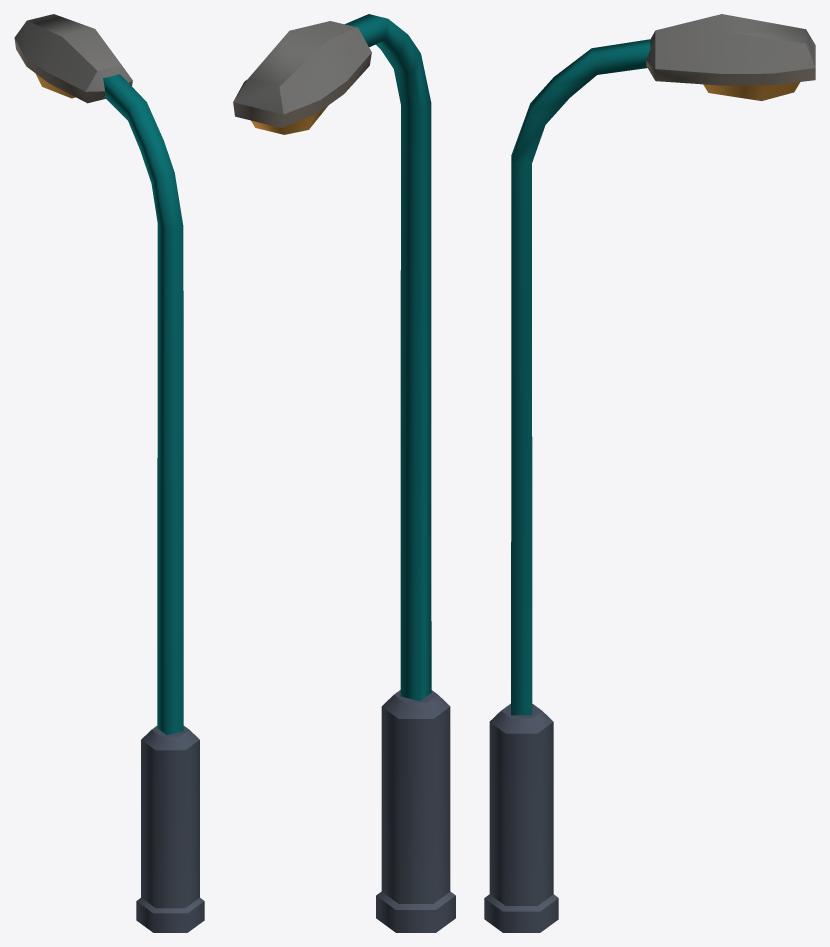
Rendered from Lights_5_C.glb.
3 renders of one model, left to right at view 1: azimuth 30°, elevation 25°; view 2: azimuth 150°, elevation 25°; view 3: azimuth 270°, elevation 25°, orthographic. The views are drawn at different scales.
Parts seen in each view (by area): view 1: Lights_5_C; view 2: Lights_5_C; view 3: Lights_5_C.
Boxes of the visible parts, box(x1,y1,x2,y2) form: Lights_5_C: box(14, 14, 204, 932); Lights_5_C: box(233, 14, 455, 932); Lights_5_C: box(484, 14, 815, 932).
Size of the model in its own units: 0.3536 by 4.23 by 1.42.
Materials: 1 (1 with a texture image).
